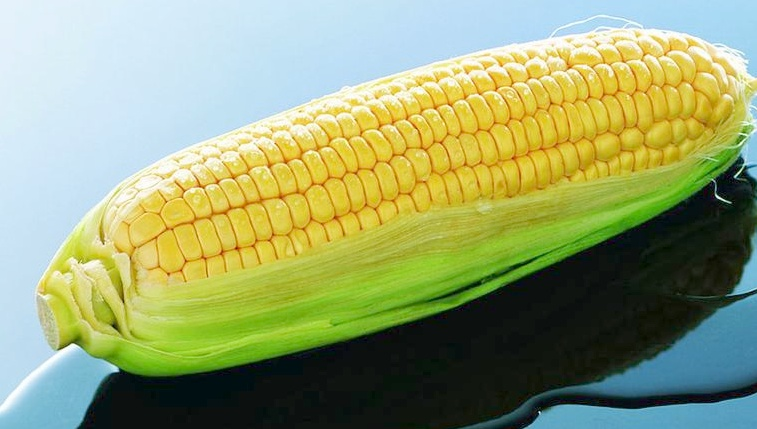corn: (42, 19, 747, 383)
